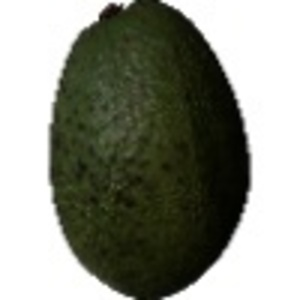abacate: (47, 1, 250, 297)
